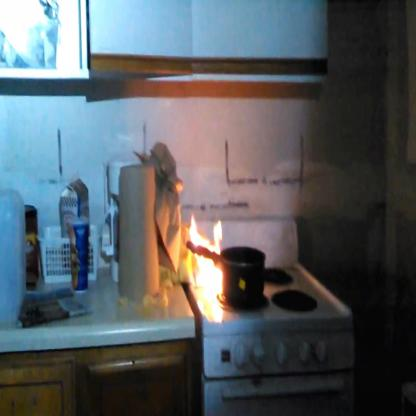fire: (186, 204, 226, 298)
